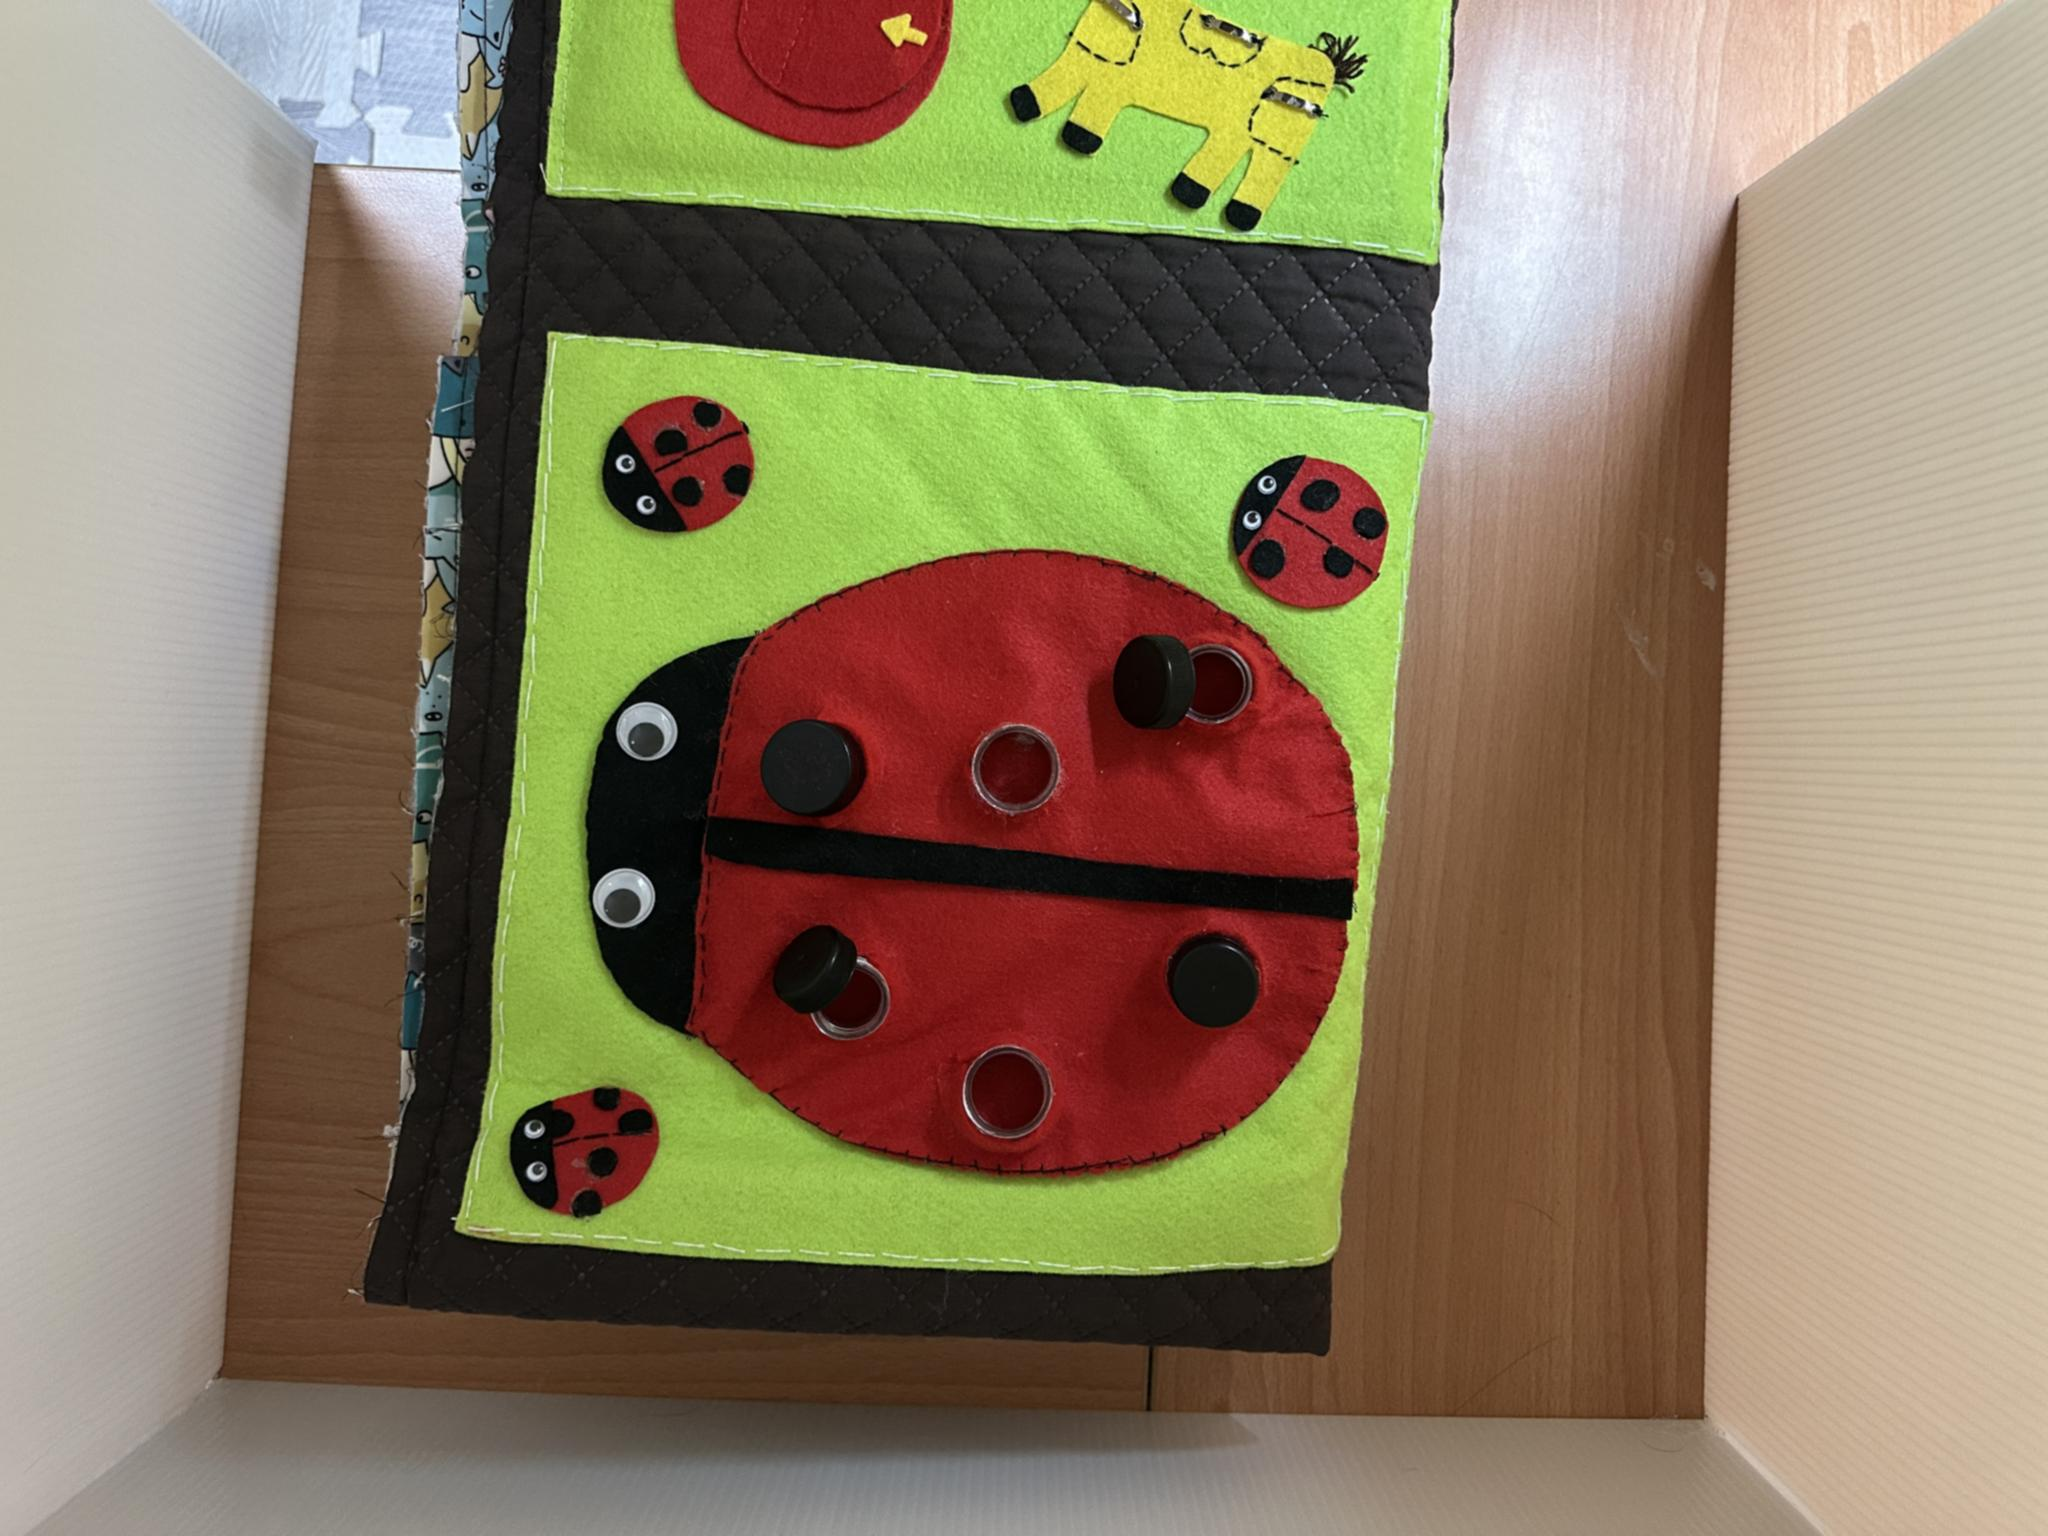cap_ng: (1097, 600, 1276, 750), (748, 905, 913, 1062)
cap_ok: (745, 697, 895, 836), (1140, 915, 1290, 1050)
